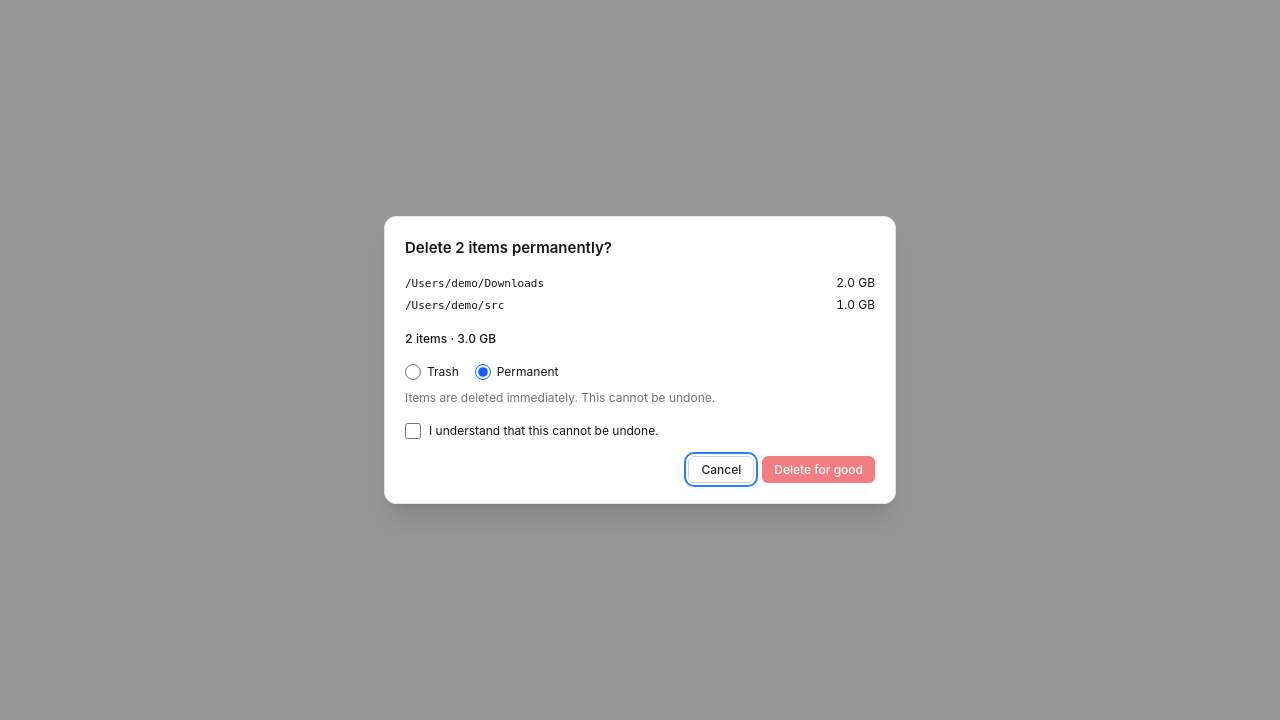
Test case: ConfirmDeleteDialog › disarms the button again when the acknowledgement is taken back
Click the checkbox: [413, 431] box [405,423,421,439]
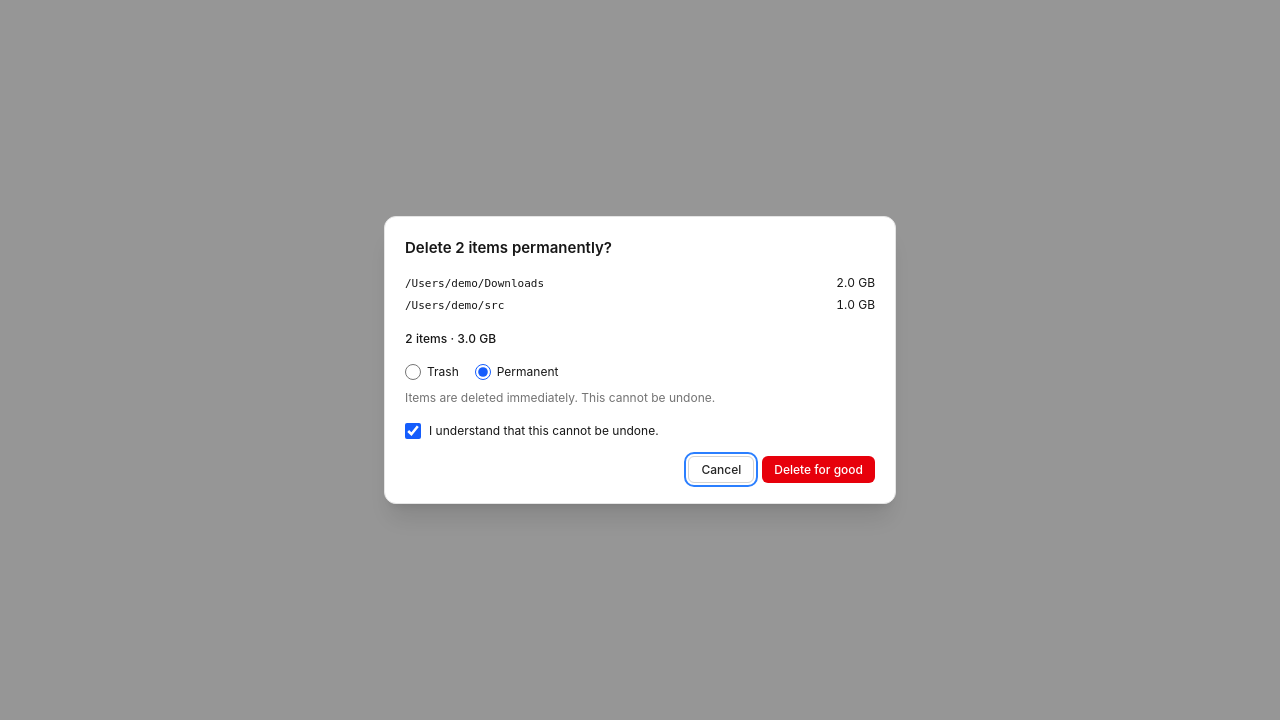
Result: the button with test id "confirm-delete" is enabled at [762,456,875,483]
Click the checkbox: [413, 431] box [405,423,421,439]
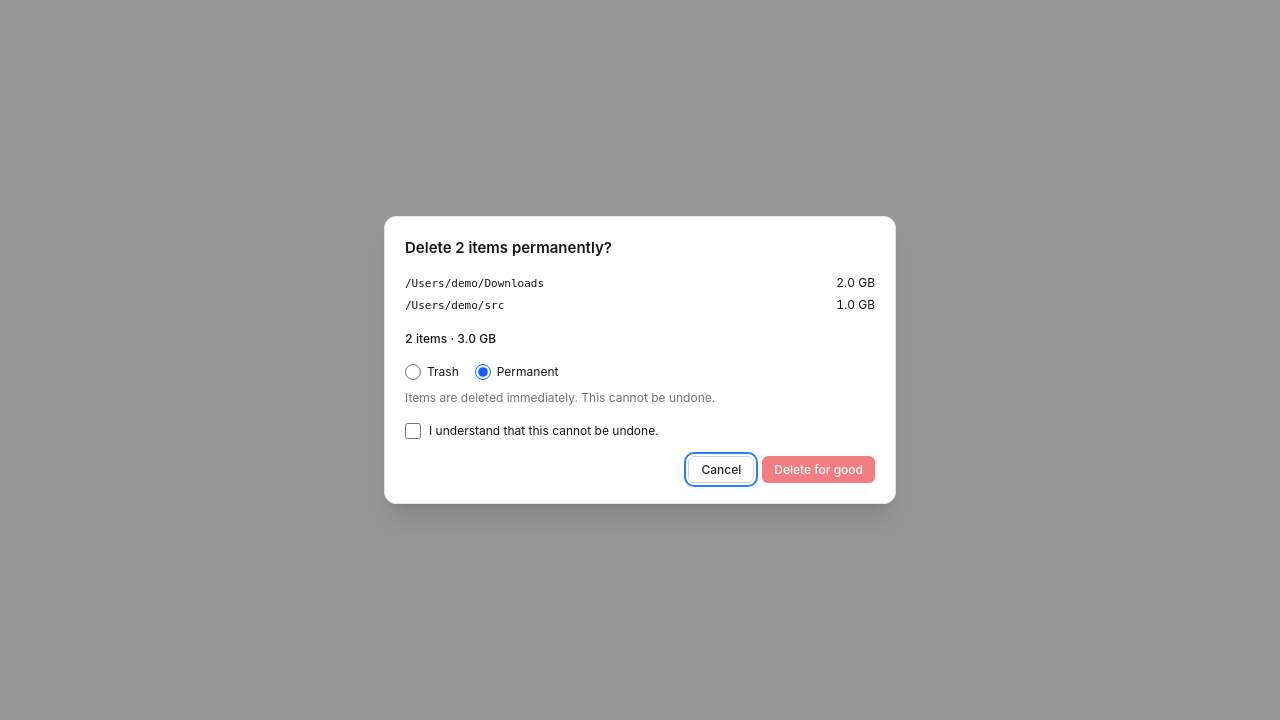
Result: the checkbox is not checked at [405,423,421,439]
Result: the button with test id "confirm-delete" is disabled at [762,456,875,483]
